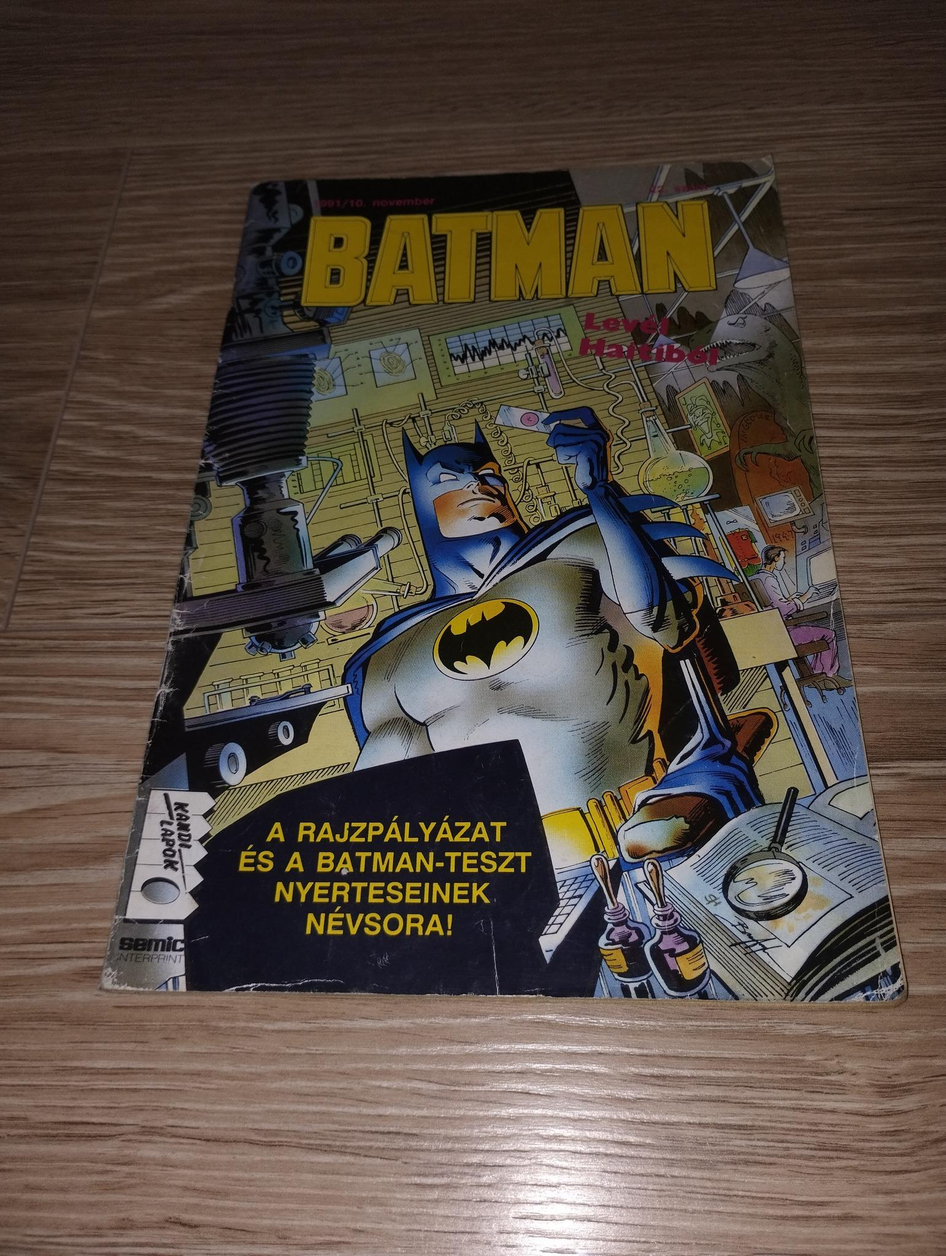comic: (104, 157, 908, 1000)
